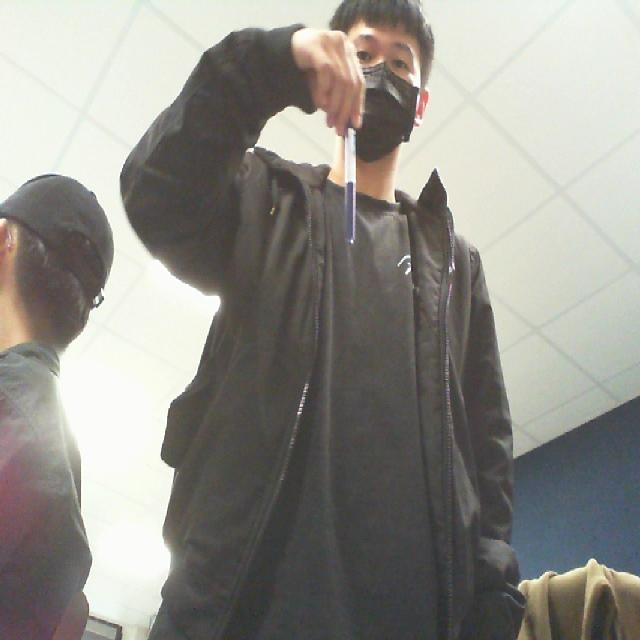Pen: (337, 120, 380, 266)
